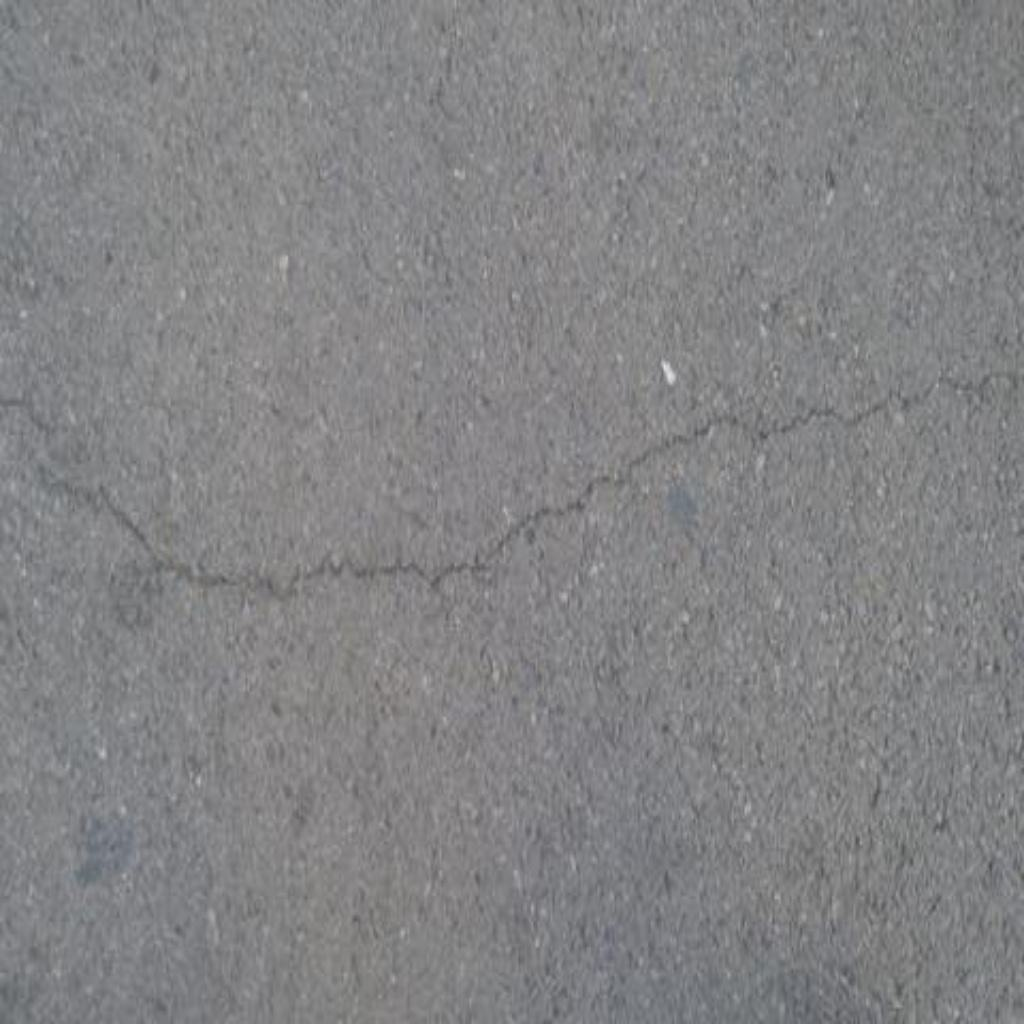Crack: (1, 370, 1024, 594)
